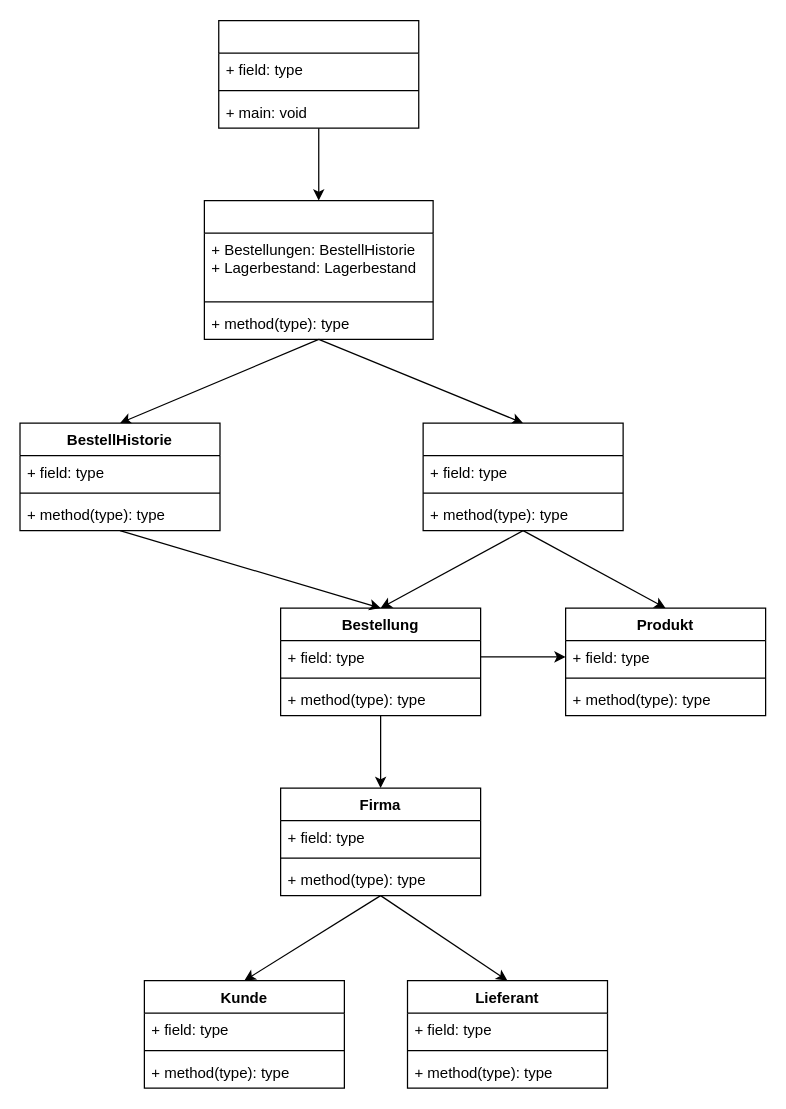
Some shapes in this 786 by 1109 pixel diagram are drawn without their labels. The box of each missing label's shape, as (x1, y1, x2, y2) in pixels:
Konsolenausgabe: (218, 19, 419, 128)
Lagerbestand: (422, 422, 623, 531)
LVS: (203, 199, 433, 339)
